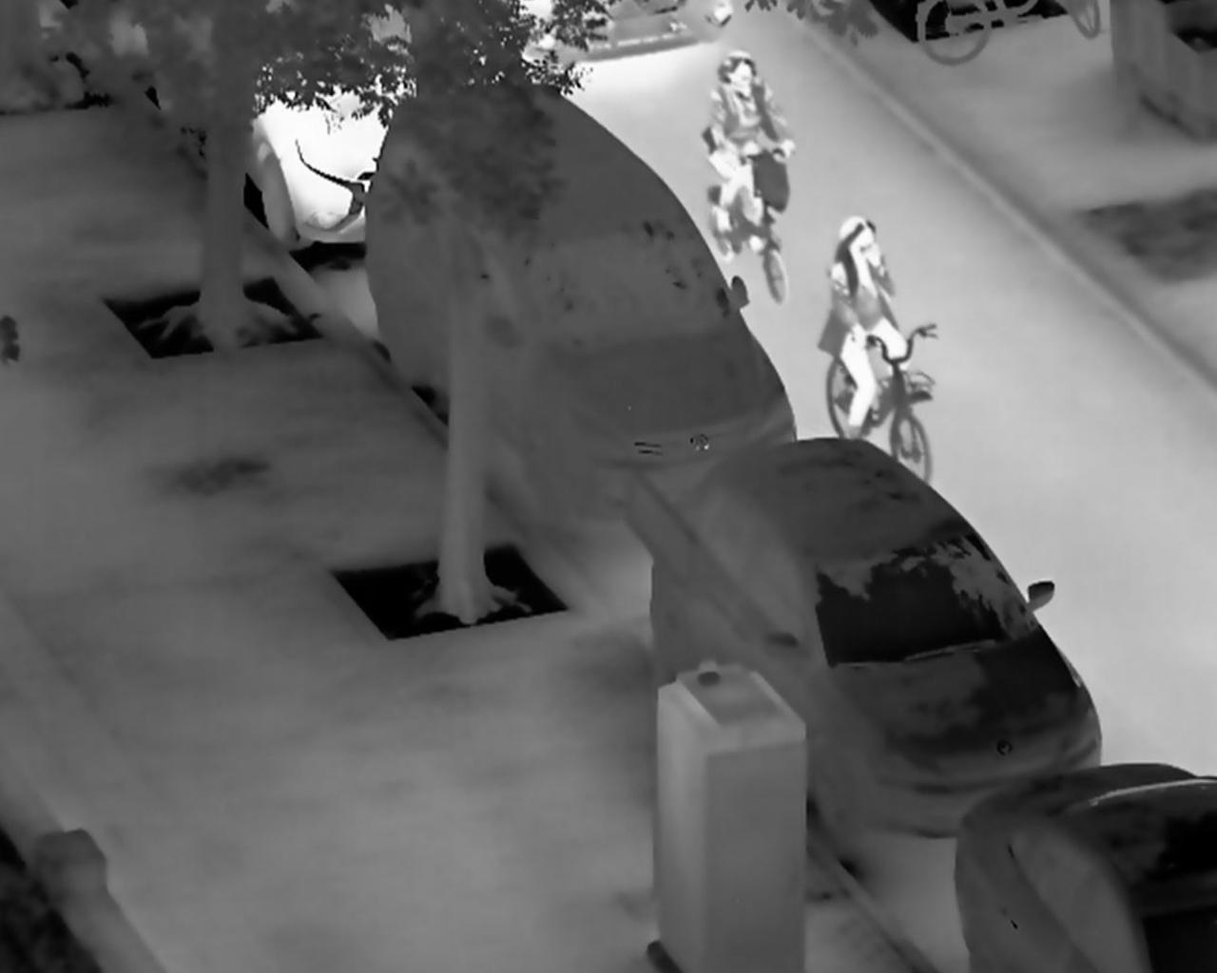person: (820, 211, 918, 442), (701, 47, 798, 262)
